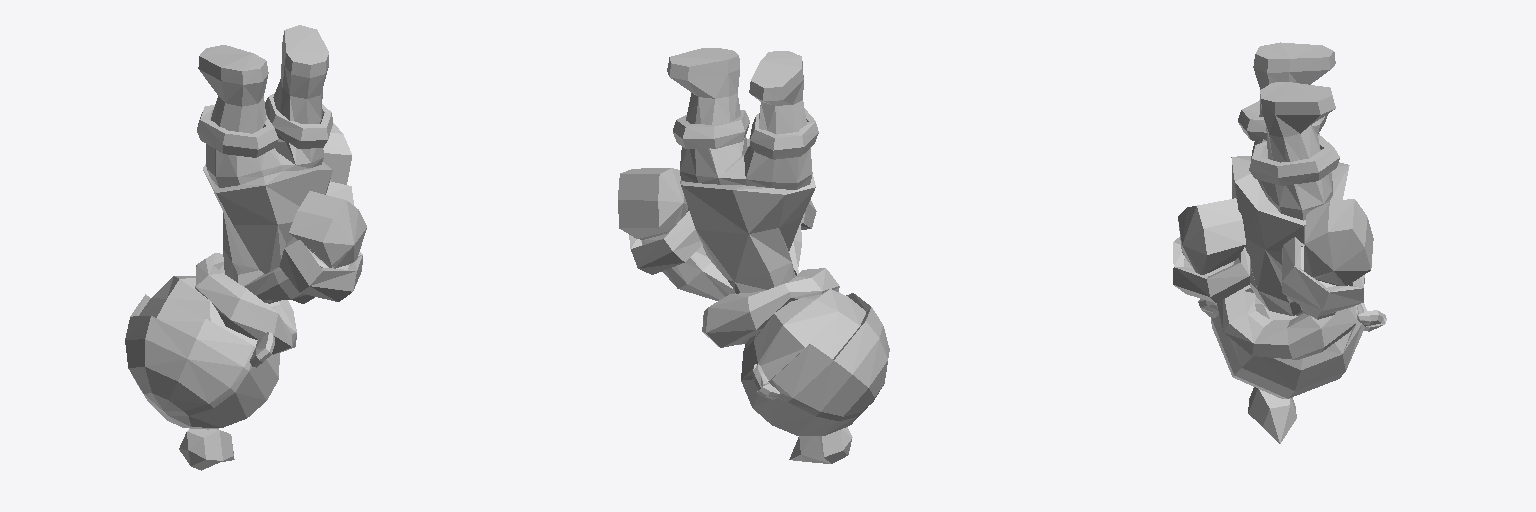
Rendered from eikaequip_000038.obj.
3 renders of one model, left to right at view 1: azimuth 30°, elevation 25°; view 2: azimuth 150°, elevation 25°; view 3: azimuth 270°, elevation 25°, orthographic.
Parts seen in each view (by area): view 1: Cylinder; view 2: Cylinder; view 3: Cylinder.
Part boxes in pixels (x1,y1,x2,y2): Cylinder: (125,25,366,470); Cylinder: (618,48,889,463); Cylinder: (1173,42,1386,443).
Bounding box in the file's own units: 33.7 × 55.36 × 27.03.